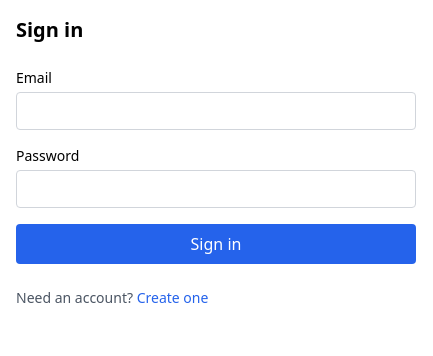
Test: auth pages and route guards › shows a plain-language error when sign-in fails
The image size is (433, 356).
Expected: the heading "Sign in" is shown, [16,16,83,43]
Type "alex@example.com" into the field labelled "Email" at (216, 111), box [16,92,416,130]
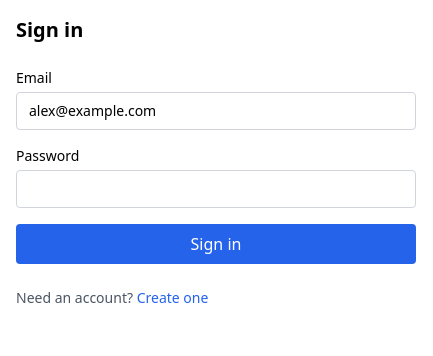
Type "wrongpass1" into the password field labelled "Password" at (216, 189), box [16,170,416,208]
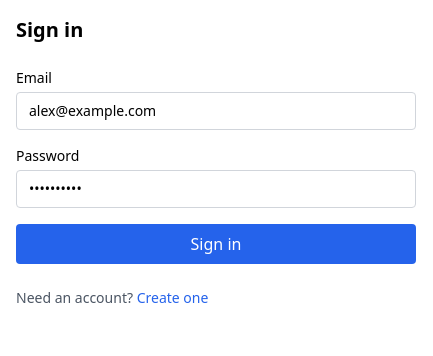
Click the button "Sign in" at (216, 244), box [16,224,416,264]
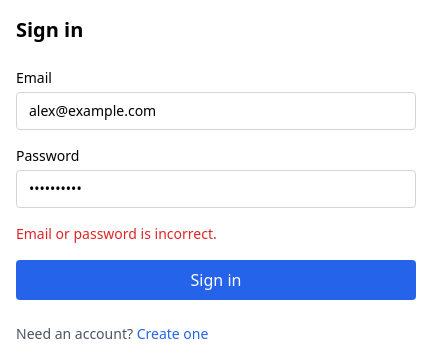
Expected: the text "Email or password is incorrect." is shown, [16,224,217,243]
